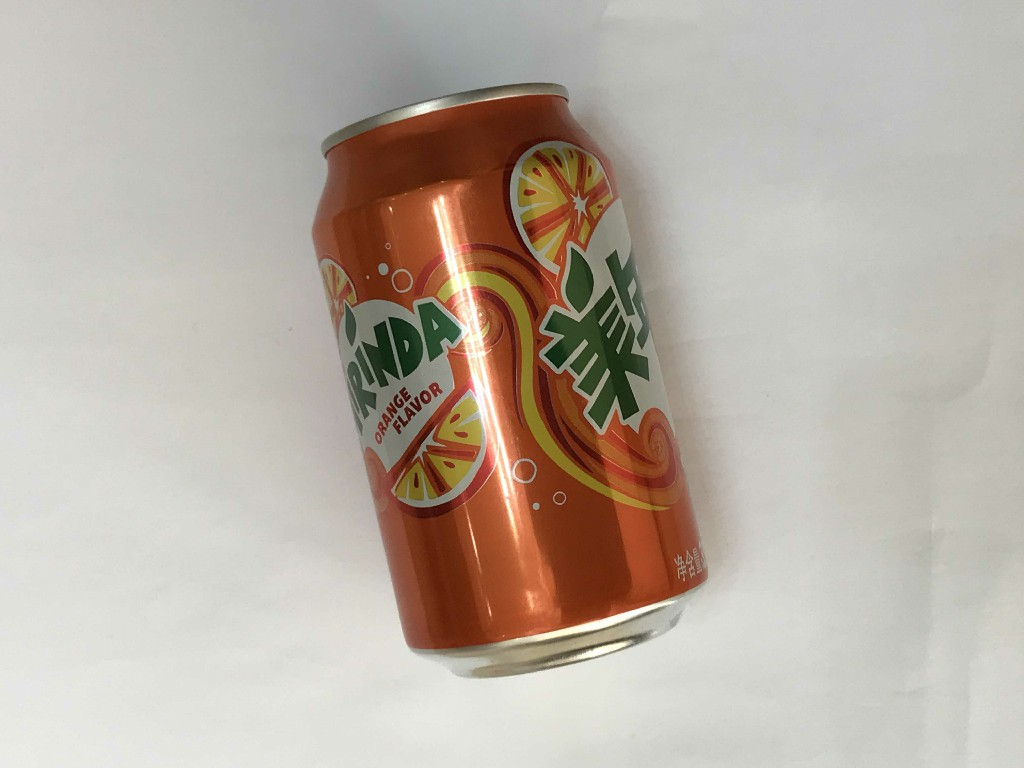can: (302, 75, 718, 685)
